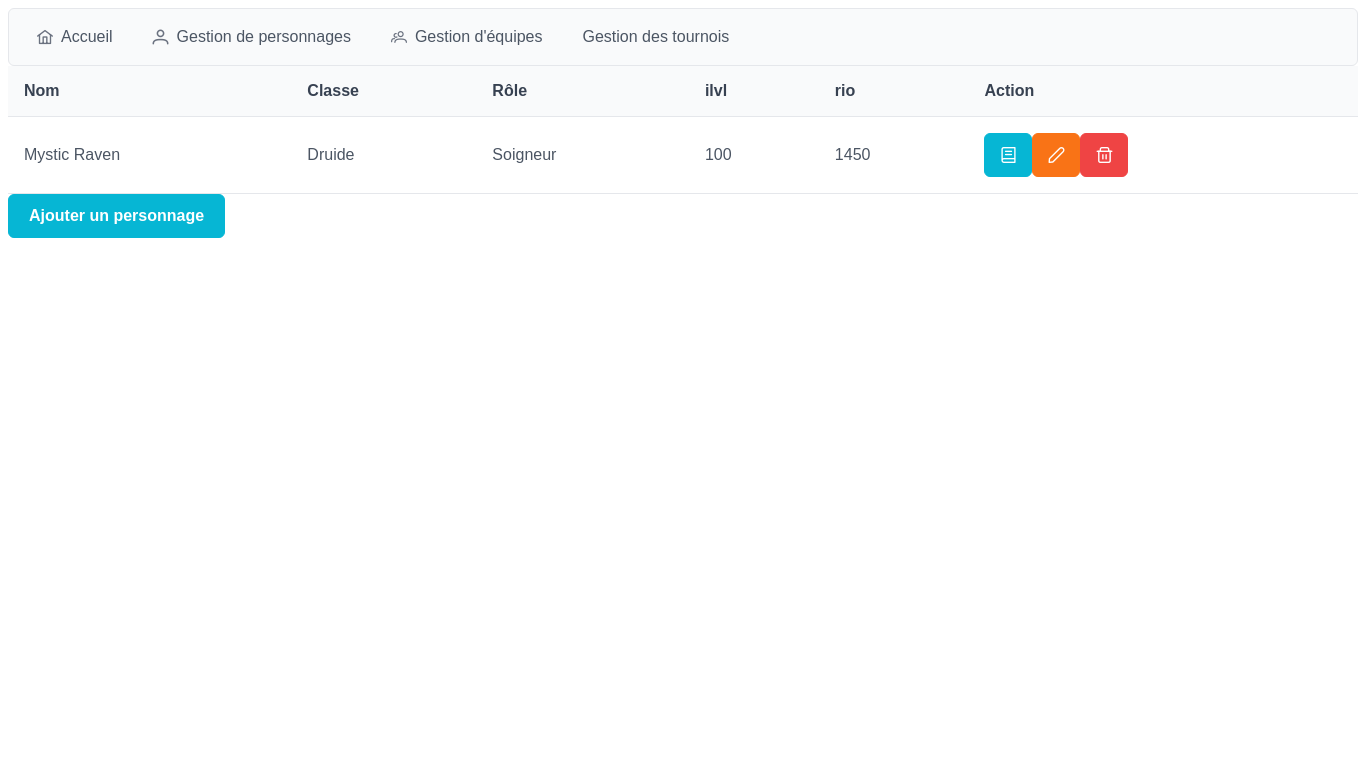
Scenario: Tests characters › Voir les détails d'un personnage
The width and height of the screenshot is (1366, 768).
Click the 1st button named "Detail" at (1008, 155), box [984, 133, 1032, 177]
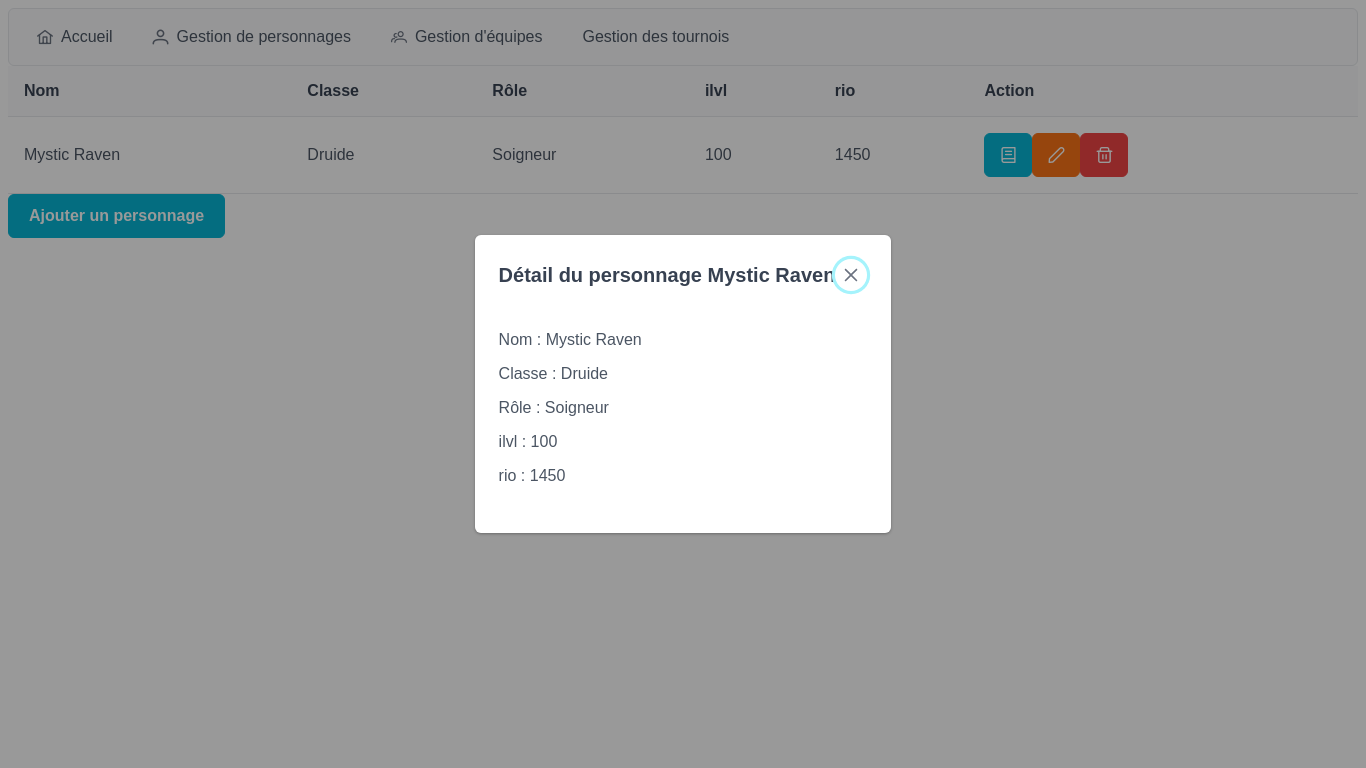
Expected: the text "Détail du personnage Mystic Raven" is shown, [499, 264, 835, 286]
Expected: the text "Nom : Mystic Raven" is shown, [499, 331, 642, 348]
Expected: the text "Classe : Druide" is shown, [499, 365, 608, 382]
